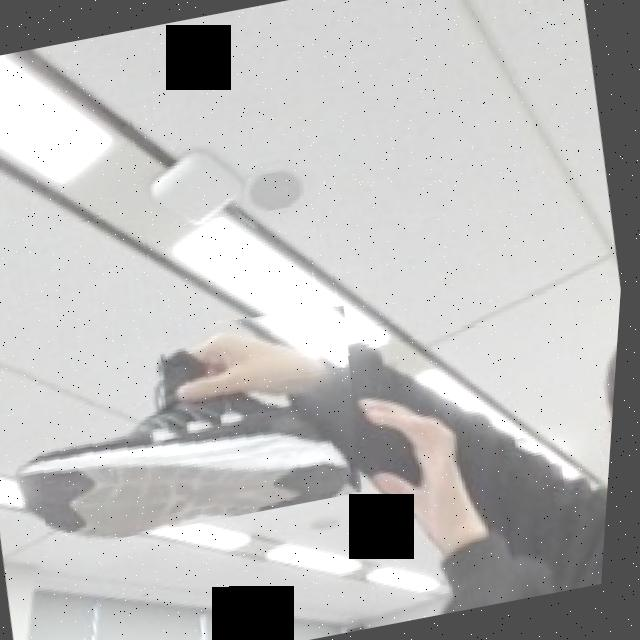shoe: (17, 287, 385, 552)
